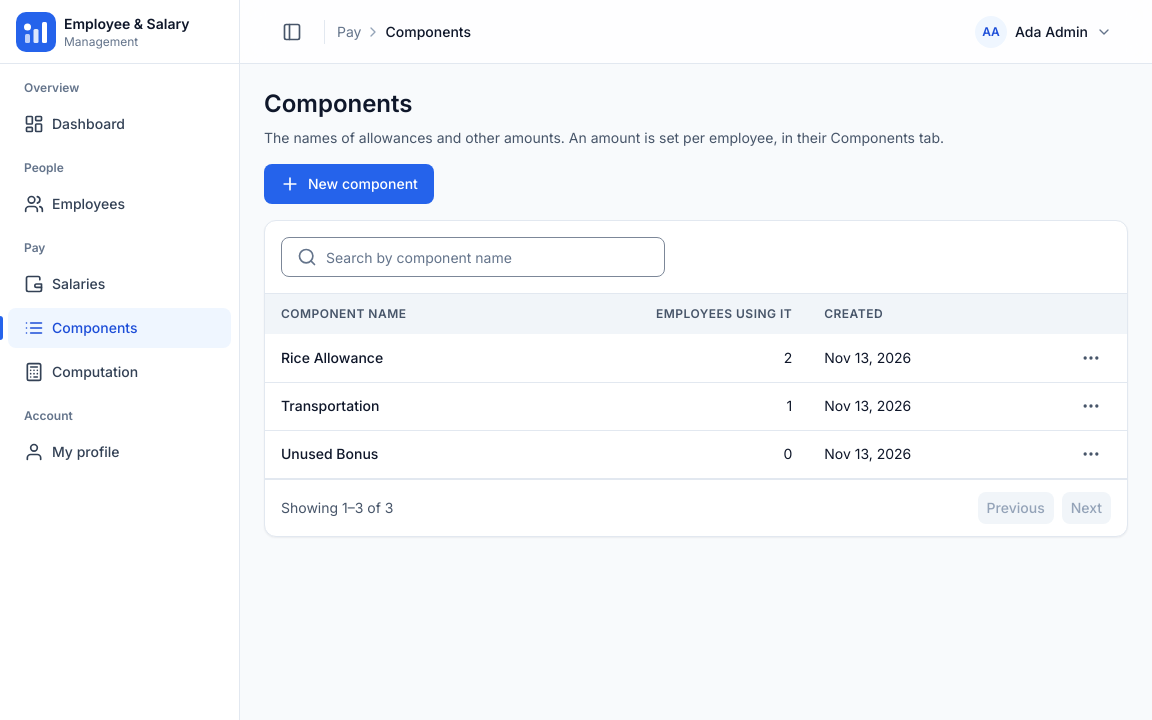
Test: Components catalog page › new component › requires a name and sends nothing without one
Check: the table named "Components" is shown, box top-left (265, 294), bottom-right (1127, 478)
What coordinates should you click on to do the following:
click the button "New component"
I would click on:
 (349, 184)
Its box is top-left (264, 164), bottom-right (434, 204).
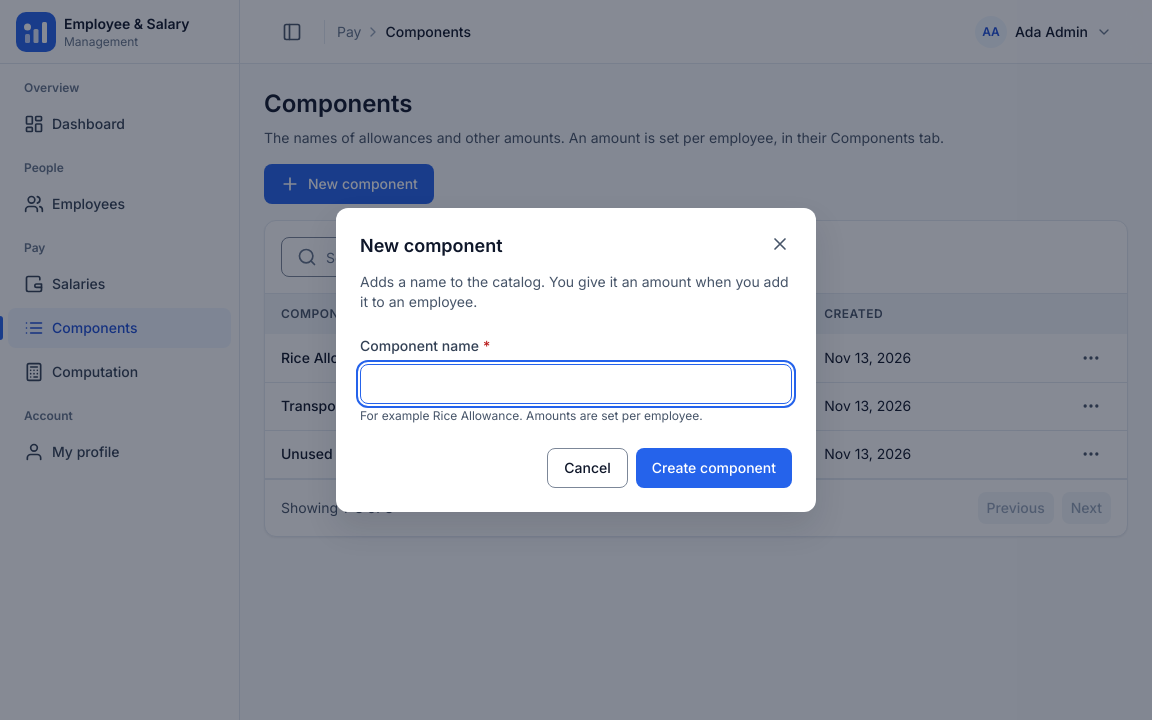
What coordinates should you click on to do the following:
click the button "Create component"
I would click on:
 (714, 468)
Its box is top-left (636, 448), bottom-right (792, 488).
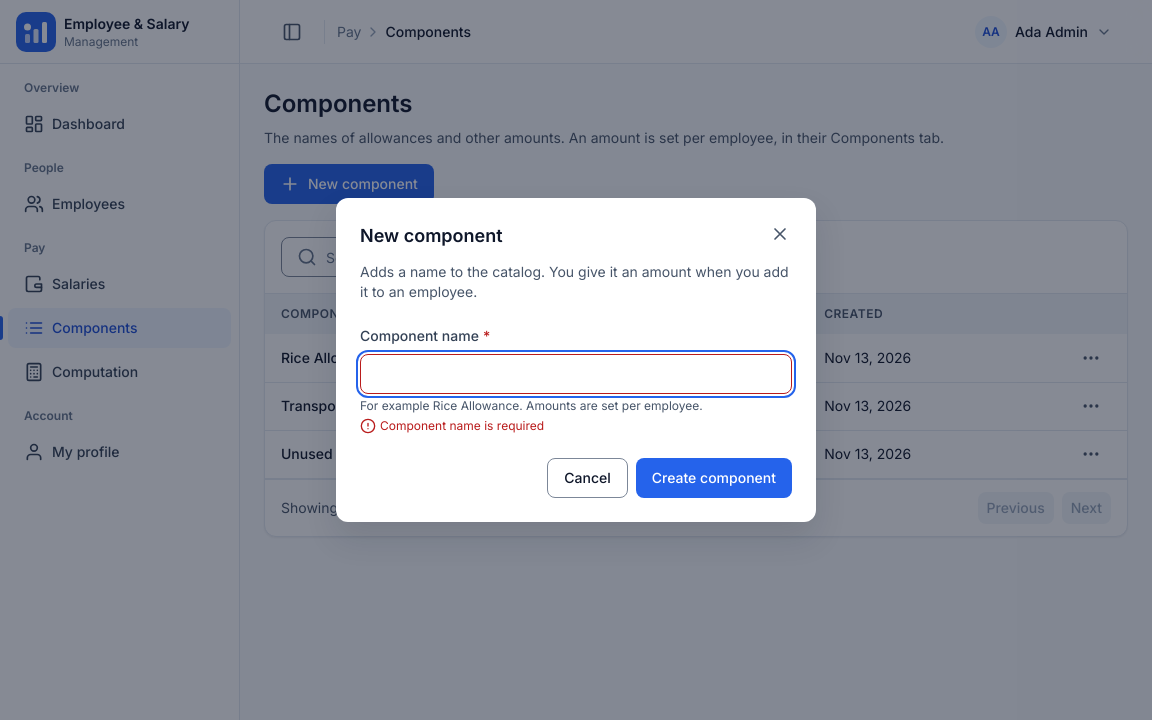
Check: the text "Component name is required" is shown, box top-left (380, 418), bottom-right (544, 434)
